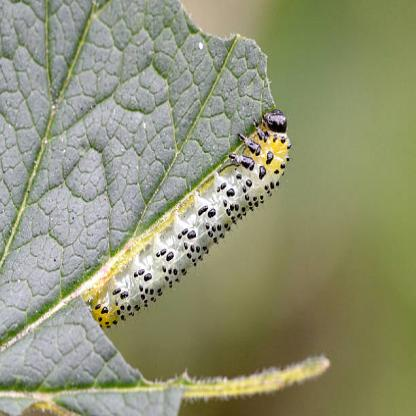sawfly: (87, 102, 294, 333)
